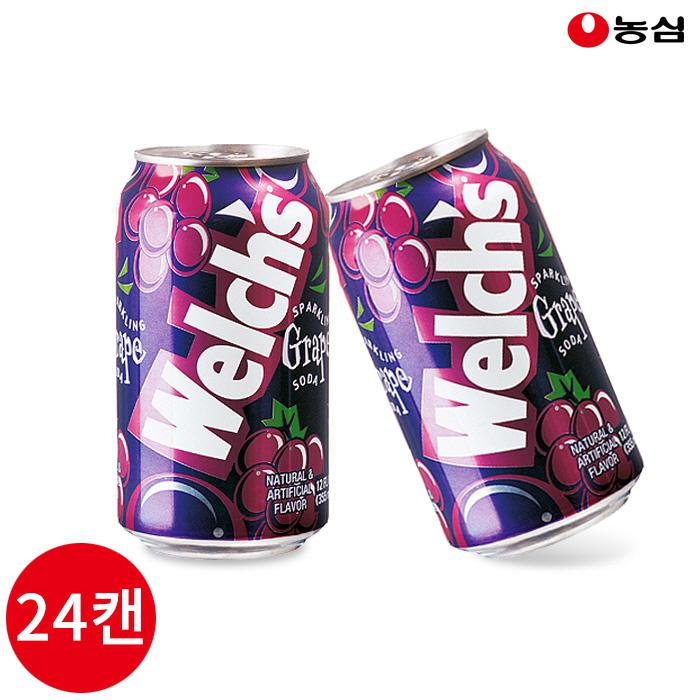welchs_grape: (334, 142, 658, 542), (102, 130, 336, 559)
